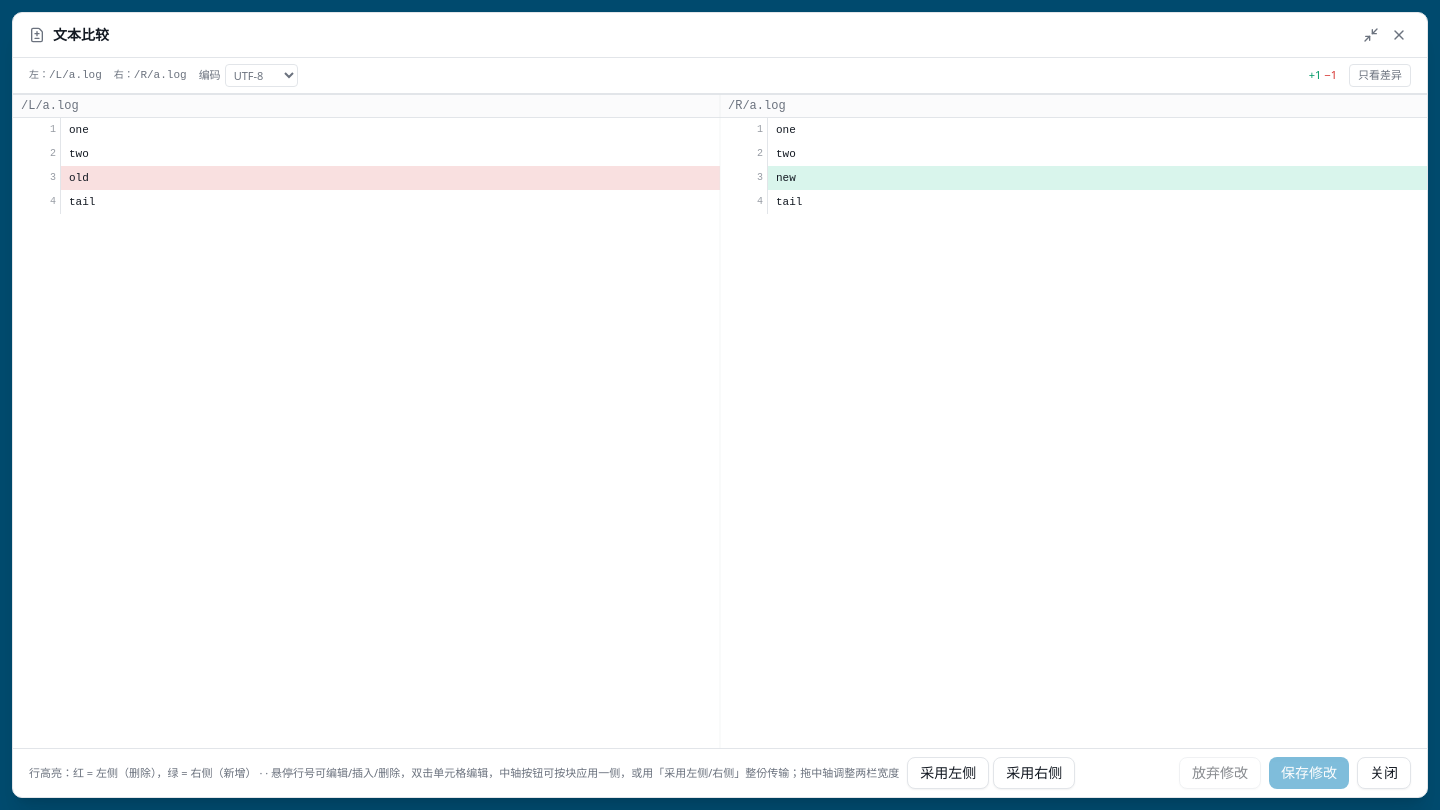
Scenario: TextDiffDialog（v0.19 文本比较） › 只看差异：隐藏相同行
Check: the 1st text "one" is shown, box [69,124,89,136]
What coordinates should you click on to do the following:
click the button "只看差异"
I would click on:
 (1380, 76)
Its box is [1349,64,1411,87].
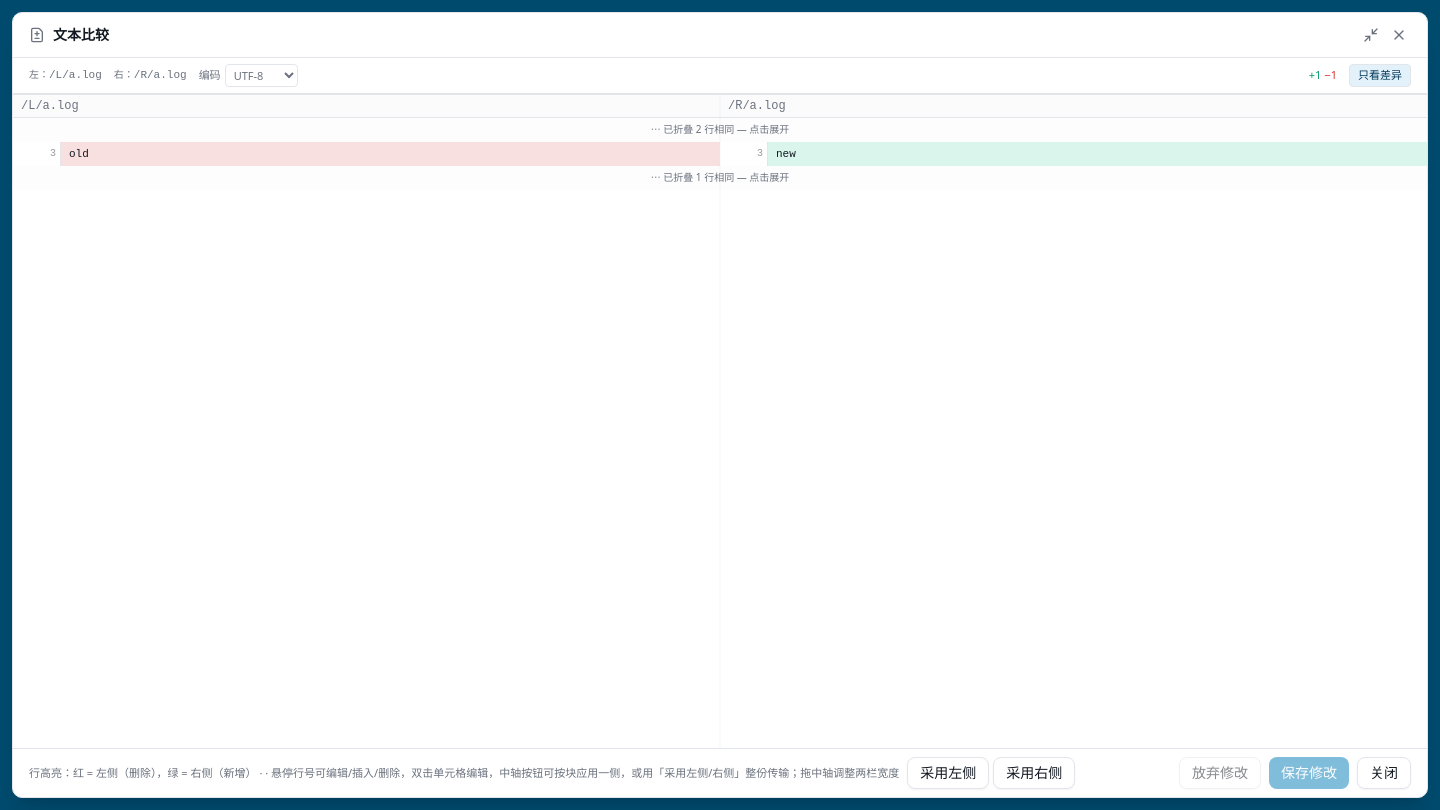
Check: the text "one" is gone
Check: the text "tail" is gone
Check: the text "old" is shown, box [69,148,89,160]
